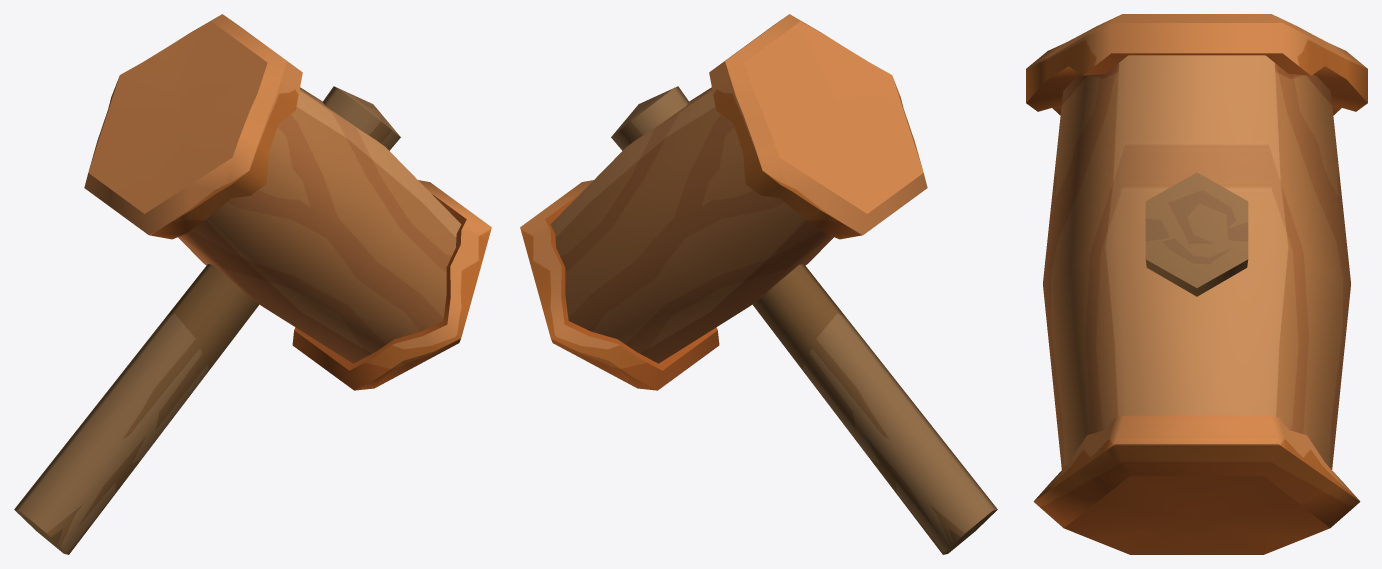
File: Wood_04.FBX
3 renders of one model, left to right at view 1: azimuth 30°, elevation 25°; view 2: azimuth 150°, elevation 25°; view 3: azimuth 270°, elevation 25°, orthographic. The views are drawn at different scales.
Visible parts, largest first — view 1: Wood_04; view 2: Wood_04; view 3: Wood_04.
Boxes of the visible parts, <box> form: Wood_04: <box>14,14,491,554</box>; Wood_04: <box>520,14,997,554</box>; Wood_04: <box>1026,14,1367,554</box>.
Size of the model in its own units: 65.58 by 66.61 by 33.18.
